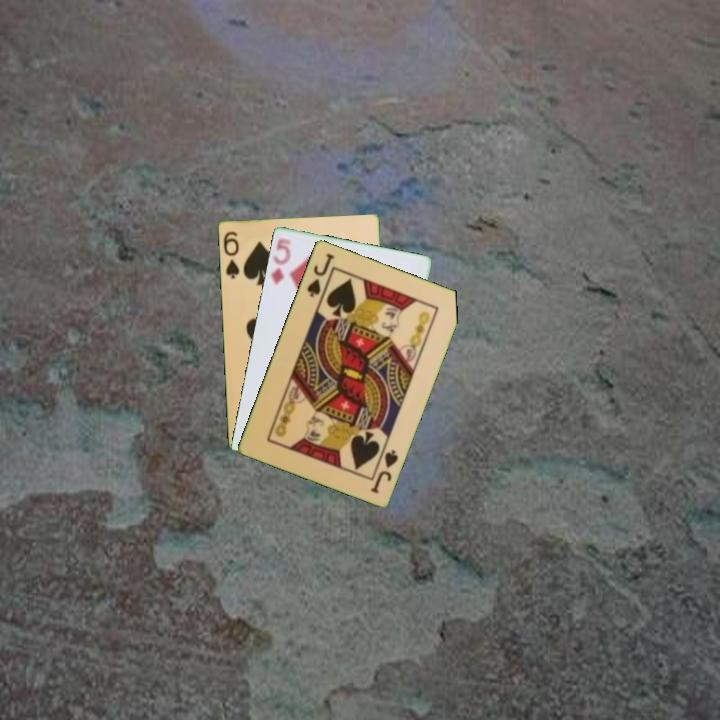5d: (268, 234, 294, 287)
6s: (219, 228, 242, 281)
Js: (366, 442, 401, 496), (303, 249, 337, 300)
